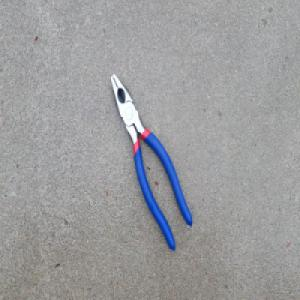Pliers: (110, 72, 194, 253)
